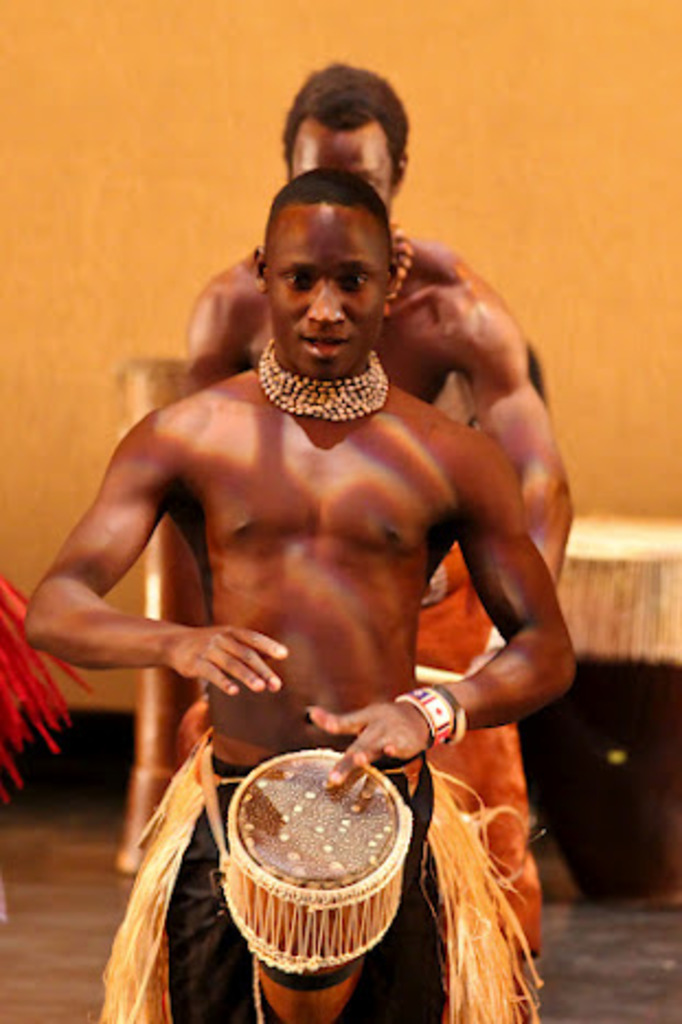face: (269, 199, 382, 381)
